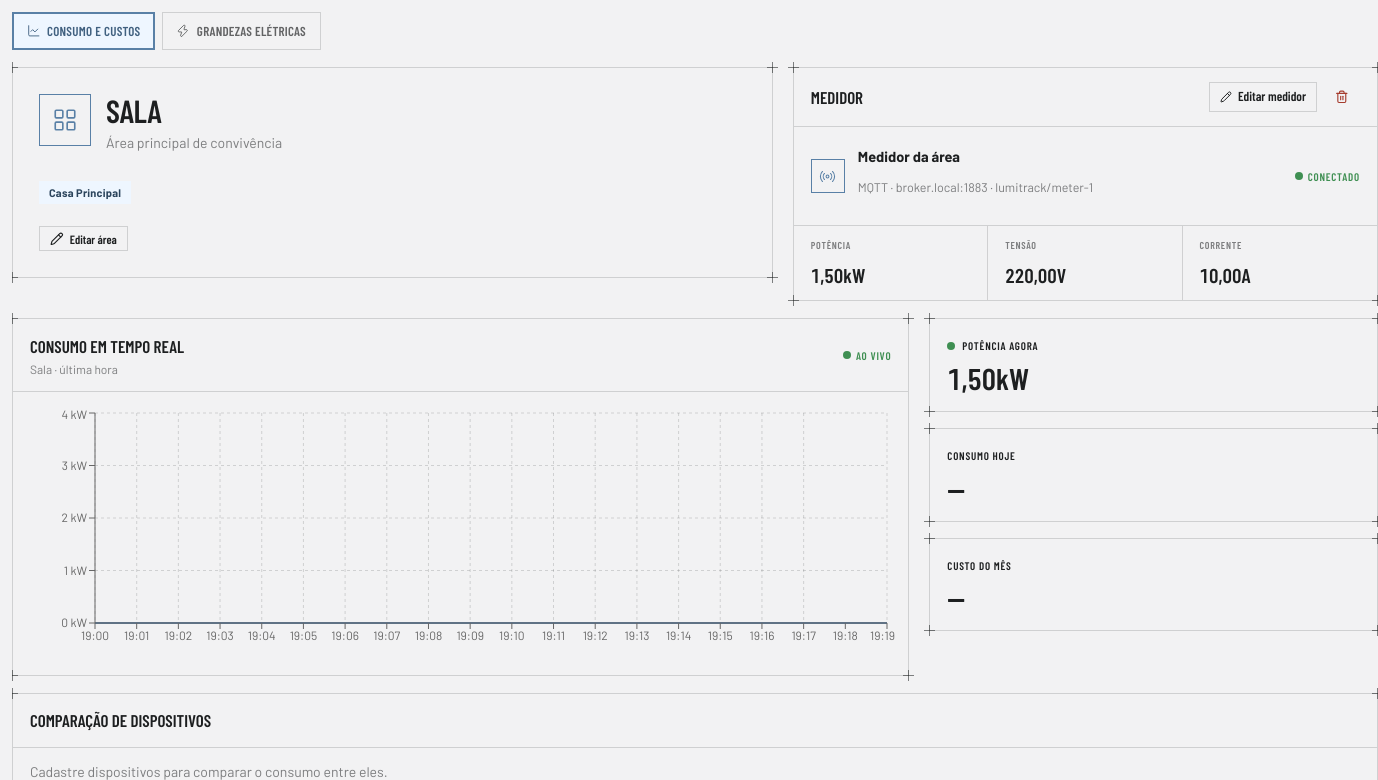
Scenario: AreaDetailsPage — aba Grandezas Elétricas › clicar em Grandezas Elétricas troca o conteúdo pela grade de cards, com leitura SSE
Check: the heading "Sala" is shown, box [106,91,161,129]
Click the tab "Grandezas Elétricas" at x=241, y=31, box [162,12,320,50]
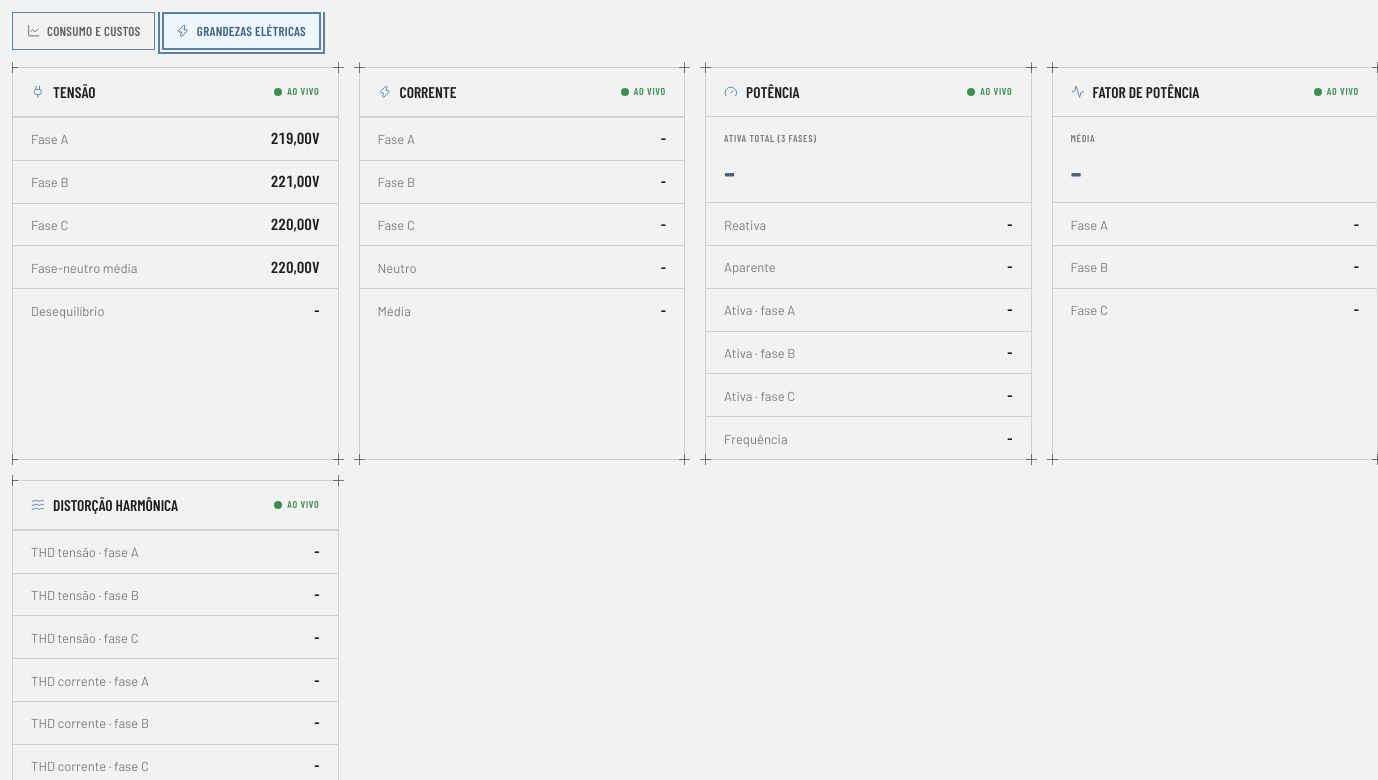
Check: the heading "Sala" is not shown
Check: the element with test id "electrical-quantity-card-voltage" is shown, box [12,67,338,460]
